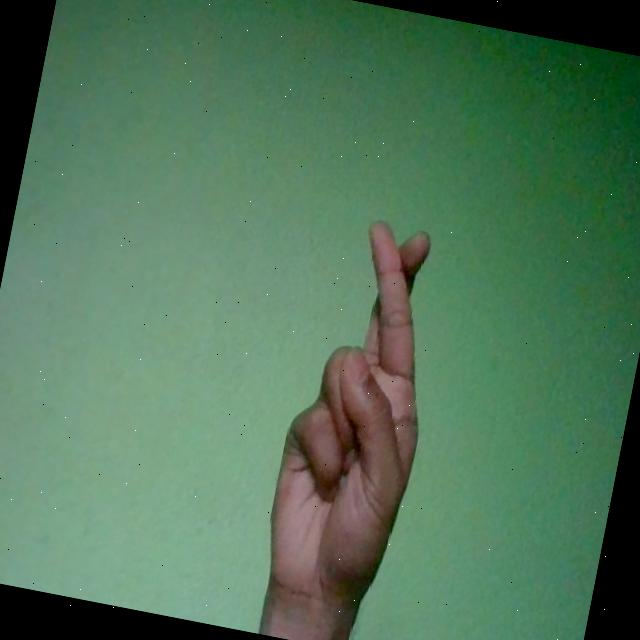Ok: (252, 212, 458, 624)
